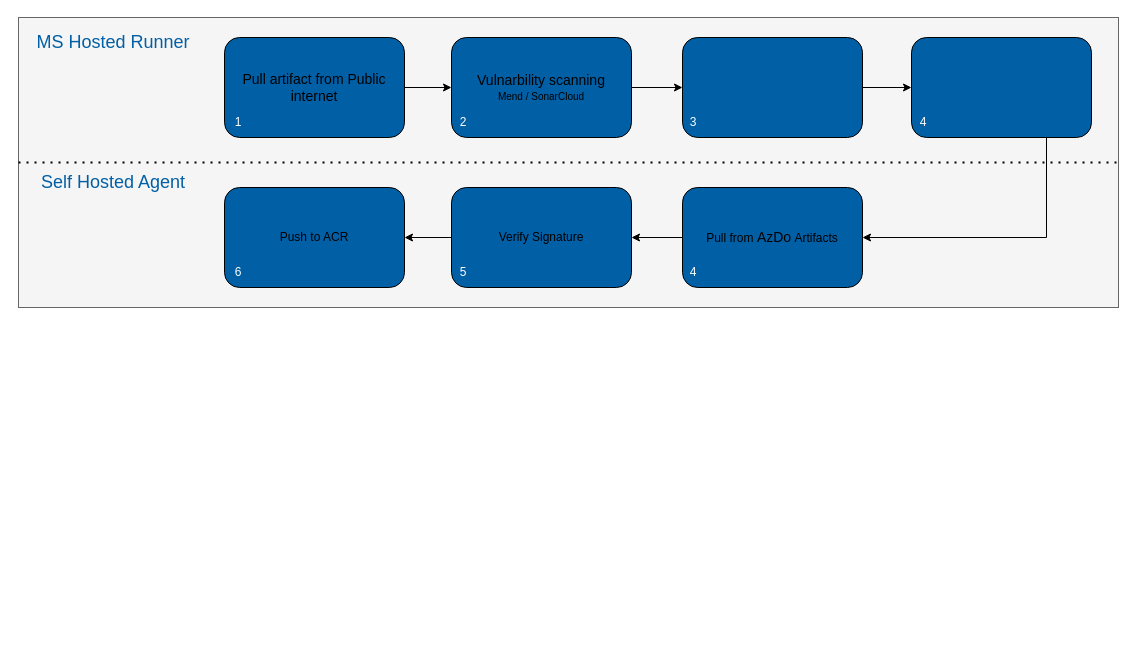
The diagram is 1137 pixels wide and 653 high, and some of its shapes have lost their labels. The box of each missing label's shape, as (x1, y1, x2, y2) in pixels:
Push to AzDo Artifacts: (910, 36, 1092, 138)
Sign Artifact: (682, 36, 862, 138)
